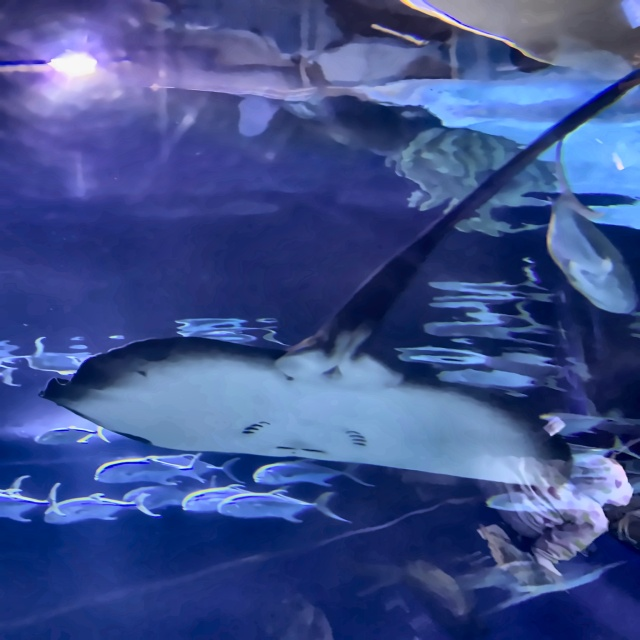fish: (547, 137, 639, 312), (217, 490, 353, 523), (44, 491, 160, 525), (253, 458, 377, 488), (94, 453, 203, 485), (155, 453, 246, 484), (0, 482, 66, 522), (182, 484, 256, 515), (33, 425, 110, 445)
stingray: (42, 334, 573, 488)
